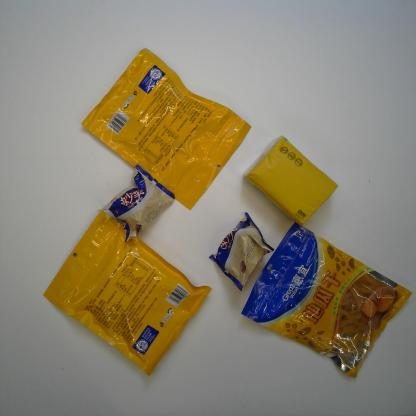Dessert: (96, 164, 175, 245), (208, 212, 275, 293)
Dried Fruit: (40, 210, 212, 379), (81, 46, 252, 213), (240, 222, 413, 380)
Tissue: (242, 134, 338, 228)
